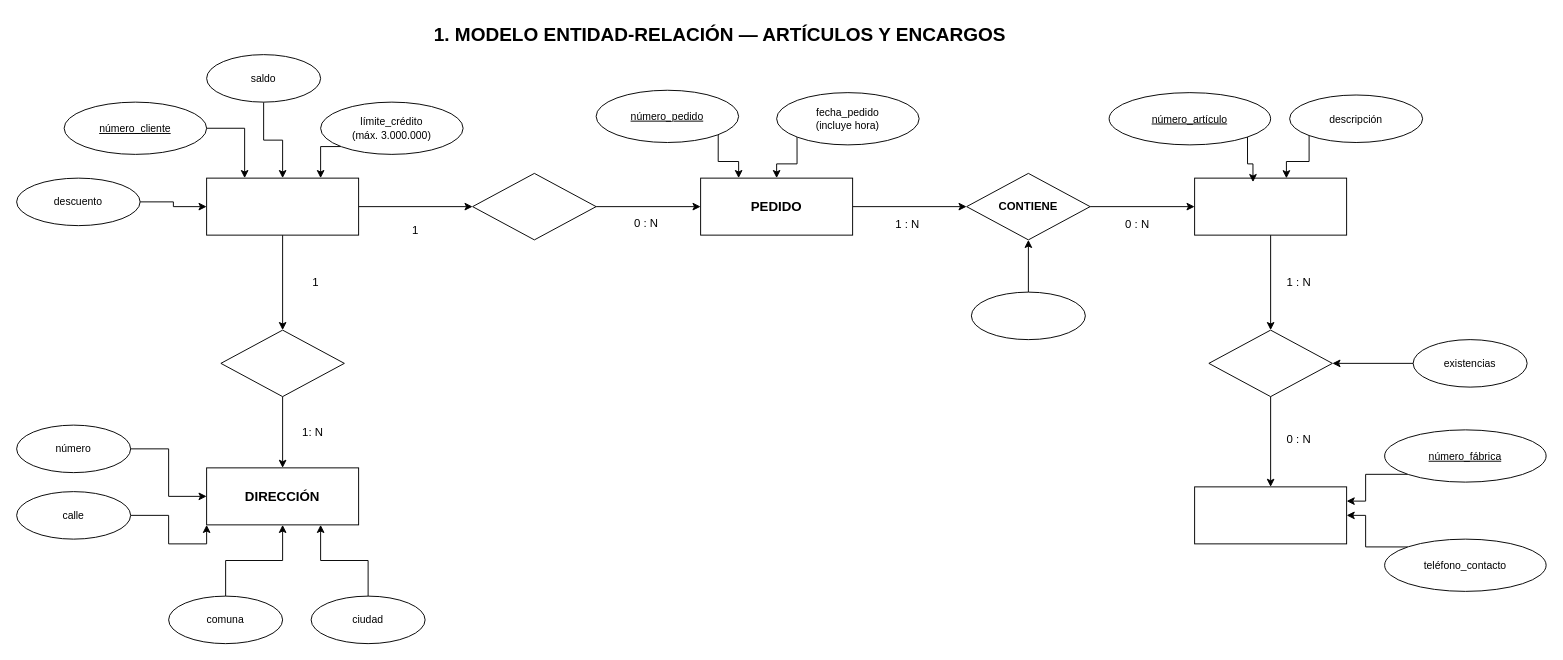
This 1563x660 diagram has some shape labels left out. The centre of each missing label's shape, as x and y in pixels:
"ARTÍCULO" goes at [1270,206].
"cantidad" goes at [1027,315].
"CLIENTE" goes at [282,206].
"DISTRIBUYE" goes at [1270,363].
"FÁBRICA" goes at [1270,515].
"REALIZA" goes at [534,206].
"TIENE" goes at [282,363].
